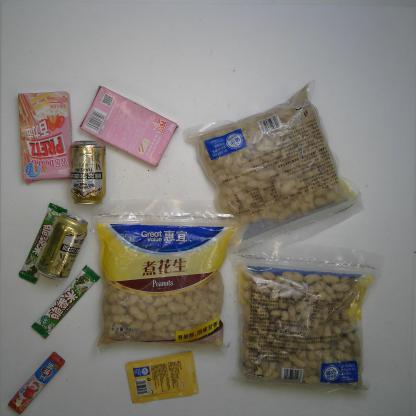Alcohol: (35, 216, 88, 281), (69, 138, 113, 209)
Candy: (6, 353, 66, 414)
Chocolate: (32, 265, 100, 338), (20, 201, 67, 284)
Dessert: (77, 86, 178, 167), (18, 89, 73, 181)
Dried Food: (180, 80, 362, 260), (84, 196, 250, 355), (226, 253, 378, 397)
Seasoner: (122, 347, 200, 404)
